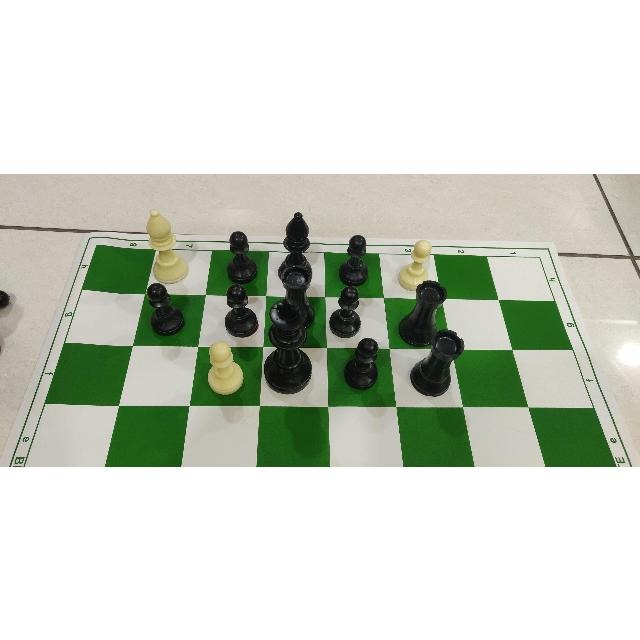black-bishop: (275, 209, 314, 282), (278, 211, 312, 280)
black-king: (263, 295, 313, 394), (264, 296, 312, 393)
black-pawn: (145, 282, 185, 336), (224, 282, 260, 338), (147, 282, 185, 335), (344, 336, 380, 390), (225, 283, 259, 337), (343, 337, 378, 389), (226, 229, 258, 283), (328, 285, 361, 337), (336, 233, 369, 285), (329, 285, 360, 337), (227, 231, 257, 283), (339, 234, 368, 286)
black-rook: (409, 327, 467, 399), (396, 279, 450, 349), (410, 328, 464, 396), (399, 279, 447, 346), (280, 264, 316, 328), (281, 264, 315, 328)
white-bishop: (144, 206, 190, 284), (147, 207, 189, 282)
white-pawn: (206, 339, 245, 397), (208, 340, 244, 394), (397, 237, 433, 291), (398, 238, 432, 290)
